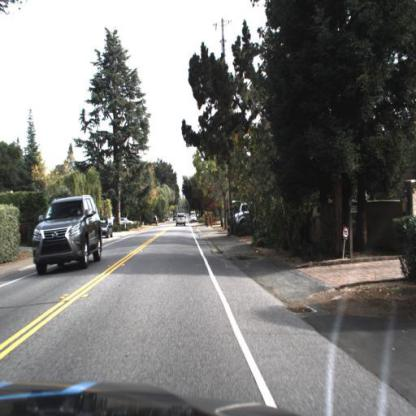car: (33, 192, 101, 278), (227, 197, 263, 237), (100, 210, 117, 242), (115, 212, 139, 233), (100, 215, 114, 243), (175, 210, 189, 230)
